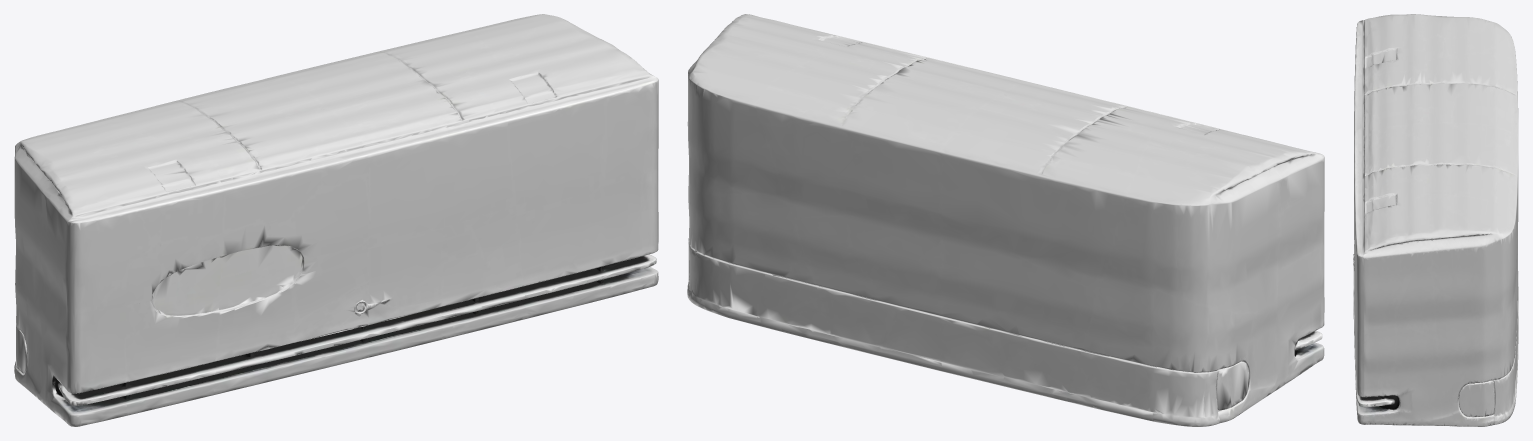
3 views of the same model, side by side, from view 1: azimuth 30°, elevation 25°; view 2: azimuth 150°, elevation 25°; view 3: azimuth 270°, elevation 25° (orthographic). The views are drawn at different scales.
Visible parts, largest first — view 1: tripo_node_7b970362-5360-433c-a0b1-4599095491a6; view 2: tripo_node_7b970362-5360-433c-a0b1-4599095491a6; view 3: tripo_node_7b970362-5360-433c-a0b1-4599095491a6.
Part boxes in pixels (x1,y1,x2,y2): tripo_node_7b970362-5360-433c-a0b1-4599095491a6: [14, 14, 658, 426]; tripo_node_7b970362-5360-433c-a0b1-4599095491a6: [687, 14, 1324, 426]; tripo_node_7b970362-5360-433c-a0b1-4599095491a6: [1353, 14, 1518, 426].
Bounding box in the file's own units: 0.6744 × 0.2591 × 0.1984.
1 material, 1 textured.
